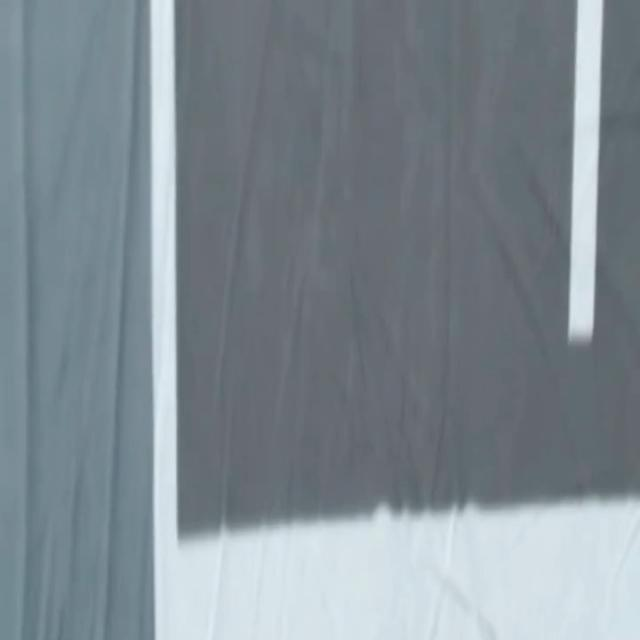center: (568, 0, 603, 343)
left: (150, 0, 179, 639)
